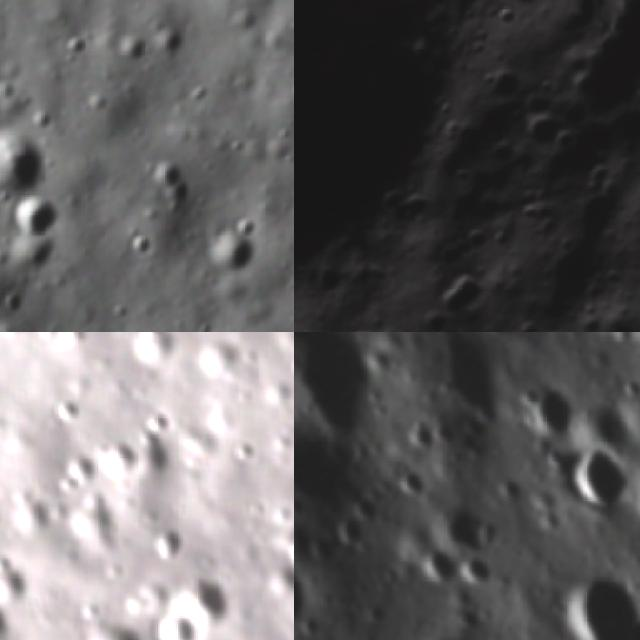crater: (294, 0, 533, 332), (294, 332, 413, 454), (548, 19, 640, 142), (552, 436, 640, 530), (507, 372, 596, 461), (549, 563, 640, 640), (294, 424, 360, 529), (506, 93, 588, 175), (425, 252, 508, 332), (294, 288, 407, 332), (294, 530, 332, 640), (410, 541, 470, 601), (0, 135, 44, 204), (173, 572, 230, 625), (452, 546, 506, 600), (202, 238, 256, 288), (396, 416, 447, 466), (8, 202, 63, 248), (328, 509, 377, 558), (448, 216, 499, 262), (123, 332, 175, 374), (422, 412, 468, 458), (101, 434, 142, 478), (394, 469, 435, 511), (146, 518, 186, 559), (345, 492, 385, 532), (110, 32, 150, 71), (570, 299, 613, 332), (457, 411, 492, 447), (47, 390, 81, 427), (159, 27, 192, 64), (60, 451, 97, 483), (267, 558, 294, 598), (624, 258, 640, 322), (505, 309, 547, 332), (0, 581, 14, 640), (60, 37, 86, 68), (633, 447, 640, 553), (128, 233, 152, 260), (284, 80, 294, 111)
